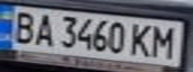0: (106, 19, 130, 55)
3: (54, 14, 78, 50)
4: (75, 16, 93, 51)
6: (90, 18, 112, 53)
A: (30, 11, 57, 47)
B: (6, 9, 39, 45)
K: (127, 20, 157, 58)
M: (148, 22, 181, 60)
